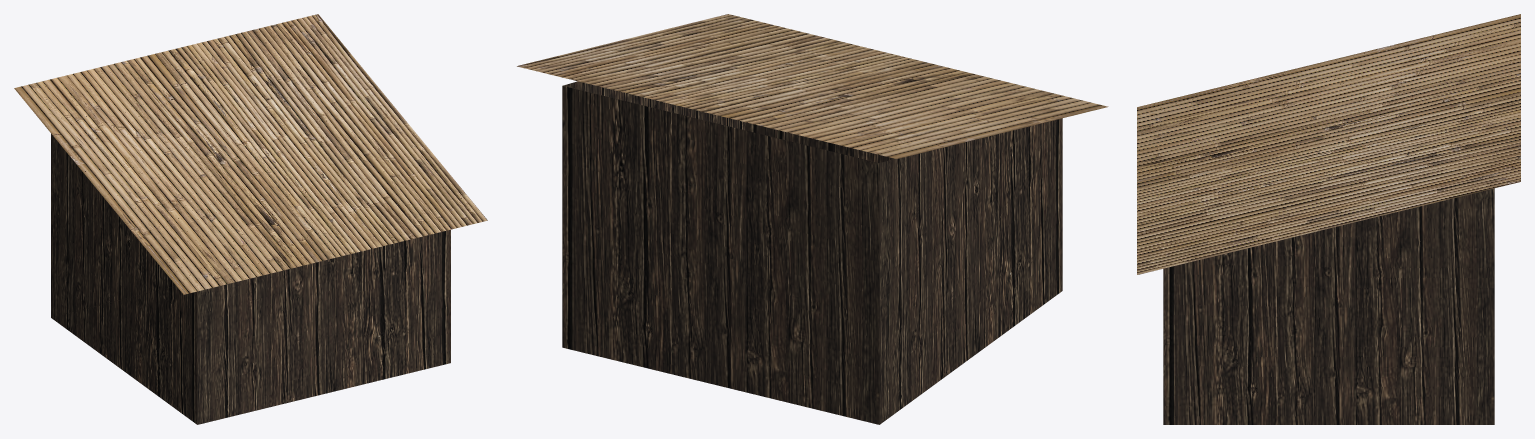
The model's file is build2_d1.FBX.
The picture shows the model from 3 angles, left to right: view 1: azimuth 30°, elevation 25°; view 2: azimuth 150°, elevation 25°; view 3: azimuth 270°, elevation 25°; orthographic projection. The views are drawn at different scales.
Visible parts, largest first — view 1: build2_d1; view 2: build2_d1; view 3: build2_d1.
Part boxes in pixels (bbox=[...]): build2_d1: bbox=[14, 14, 487, 424]; build2_d1: bbox=[517, 14, 1108, 424]; build2_d1: bbox=[1137, 14, 1520, 424].
Bounding box in the file's own units: 72 × 51.38 × 69.55.
